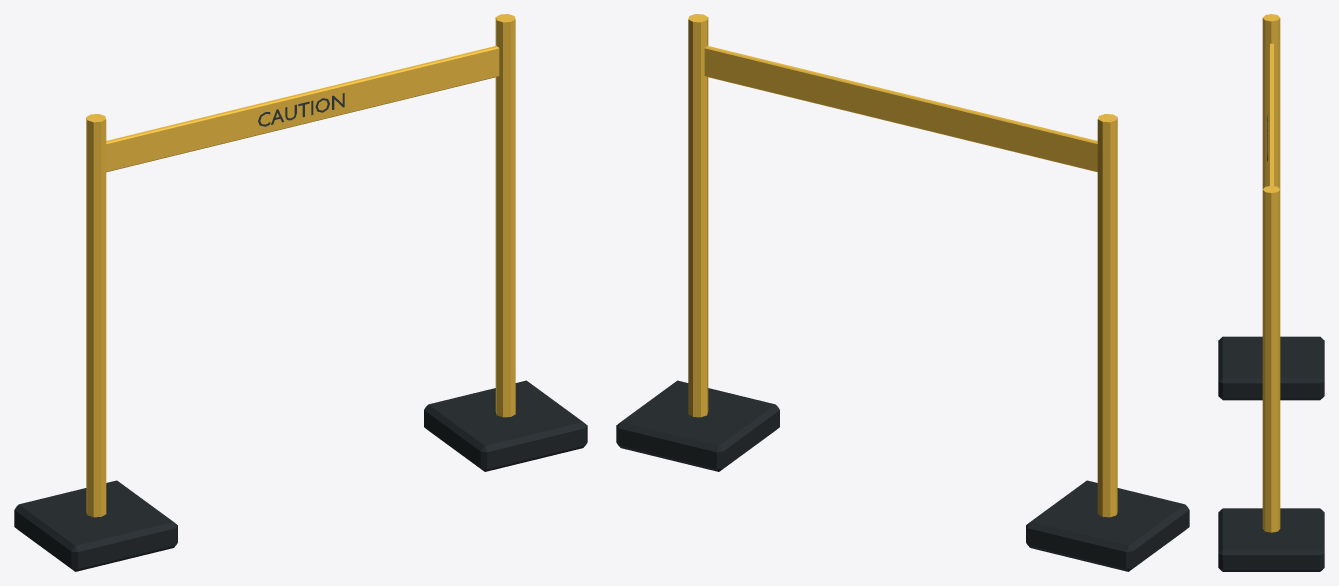
Rendered from Caution_Tape_Post.glb.
3 views of the same model, side by side, from view 1: azimuth 30°, elevation 25°; view 2: azimuth 150°, elevation 25°; view 3: azimuth 270°, elevation 25° (orthographic). The views are drawn at different scales.
Visible parts, largest first — view 1: Caution_Tape_Post; view 2: Caution_Tape_Post; view 3: Caution_Tape_Post.
Part boxes in pixels (x1=…): Caution_Tape_Post: x1=14, y1=14, x2=587, y2=571; Caution_Tape_Post: x1=616, y1=14, x2=1189, y2=571; Caution_Tape_Post: x1=1218, y1=14, x2=1324, y2=571.
Bounding box in the file's own units: 1.45 × 1.13 × 0.3.
